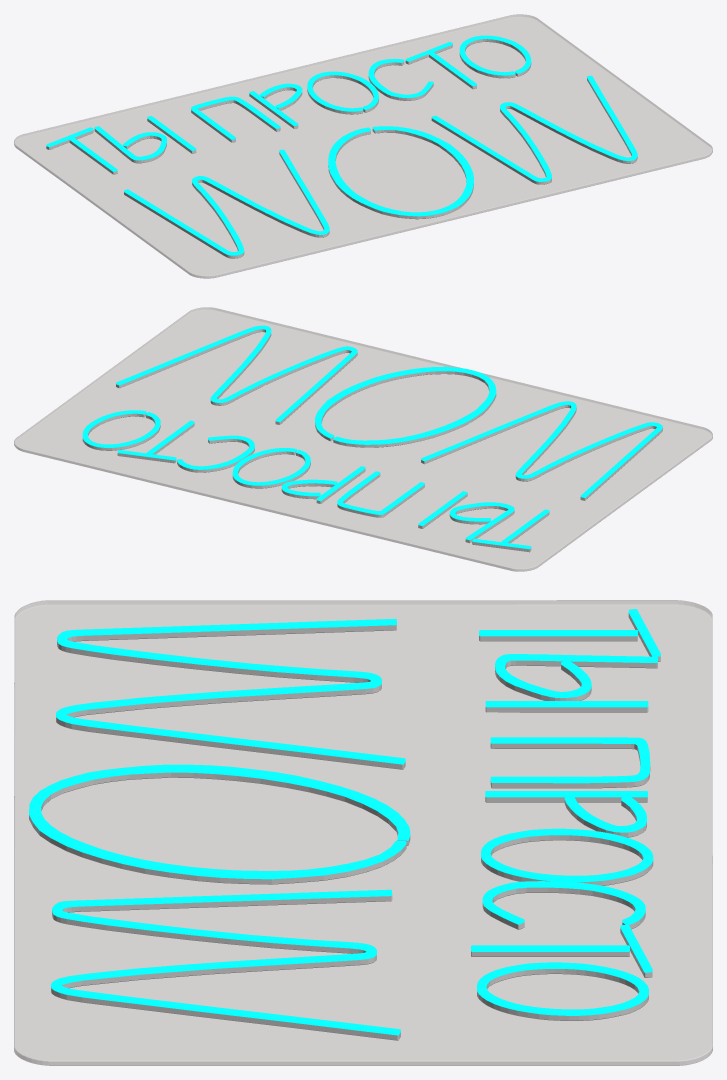
File: wow.glb
3 views of the same model, one above another, from view 1: azimuth 30°, elevation 25°; view 2: azimuth 150°, elevation 25°; view 3: azimuth 270°, elevation 25° (orthographic). The views are drawn at different scales.
Parts seen in each view (by area): view 1: Plane.026, Plane.027; view 2: Plane.026, Plane.027; view 3: Plane.026, Plane.027.
Boxes of the visible parts, x1,y1,x2,y2 form: Plane.026: (14, 14, 712, 278); Plane.027: (46, 35, 637, 258); Plane.026: (14, 307, 712, 571); Plane.027: (82, 325, 662, 552); Plane.026: (14, 600, 712, 1065); Plane.027: (29, 609, 660, 1040).
Size of the model in its own units: 3.53 by 0.0475 by 2.26.
